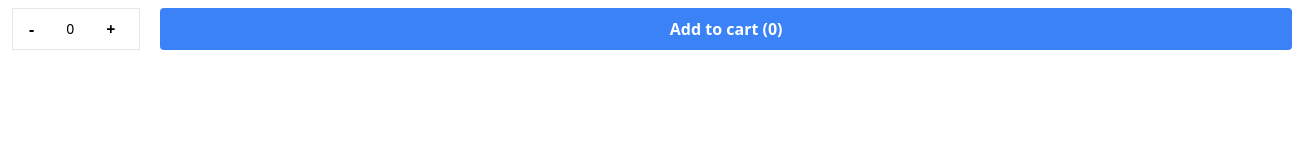
Test: AddToCartComponent › should decrement count when '-' button is clicked
The image size is (1304, 160).
Replace the text in the number field with test id "count-input" with "5" at (70, 29), box [50,9,90,49]
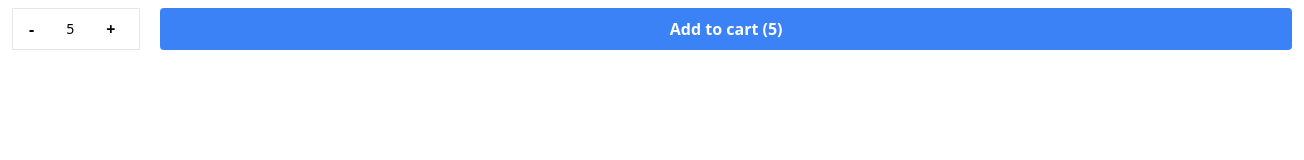
Click the button "-" at (32, 29), box [13,9,50,49]
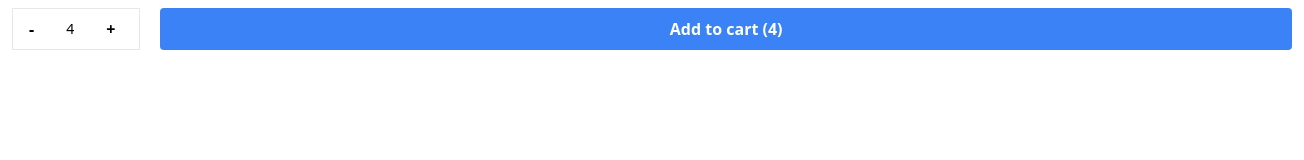
Expected: the number field with test id "count-input" holds "4", [50,9,90,49]
